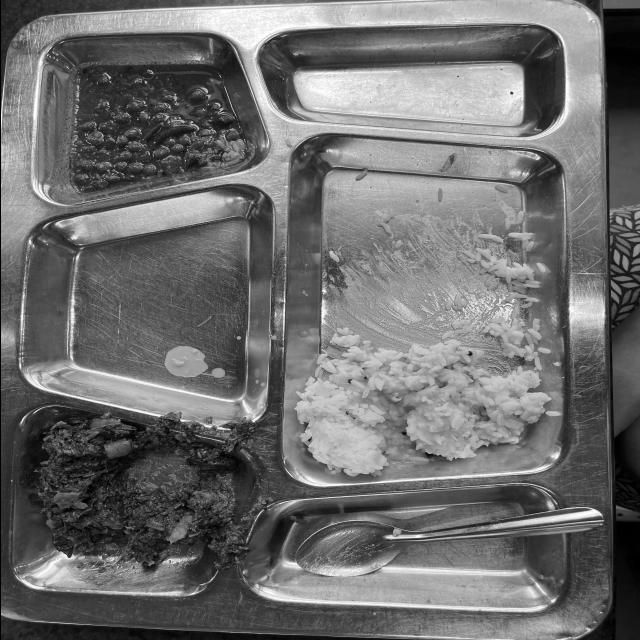20-Food-Left: (11, 18, 594, 604)
